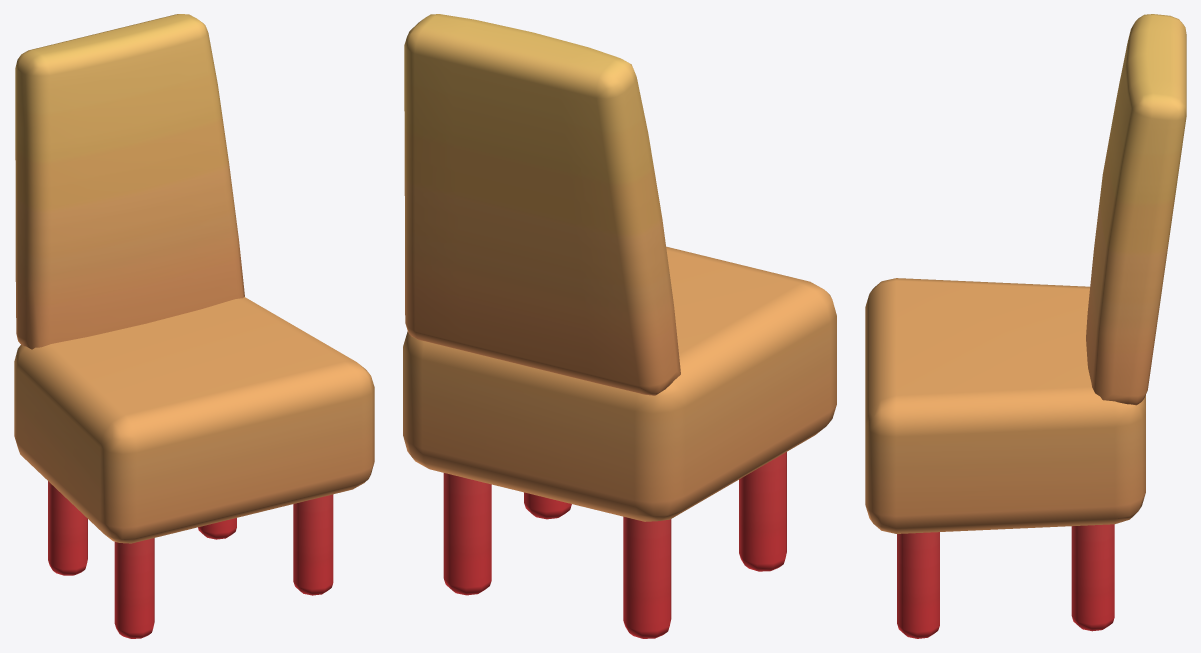
Rendered from Armchair_25.glb.
3 renders of one model, left to right at view 1: azimuth 30°, elevation 25°; view 2: azimuth 150°, elevation 25°; view 3: azimuth 270°, elevation 25°, orthographic. The views are drawn at different scales.
Parts seen in each view (by area): view 1: Armchair_25; view 2: Armchair_25; view 3: Armchair_25.
Part boxes in pixels (<box>): Armchair_25: <box>14,14,374,638</box>; Armchair_25: <box>403,14,836,638</box>; Armchair_25: <box>865,14,1186,638</box>.
Size of the model in its own units: 0.5345 by 0.9428 by 0.5151.
Materials: 1 (1 with a texture image).
